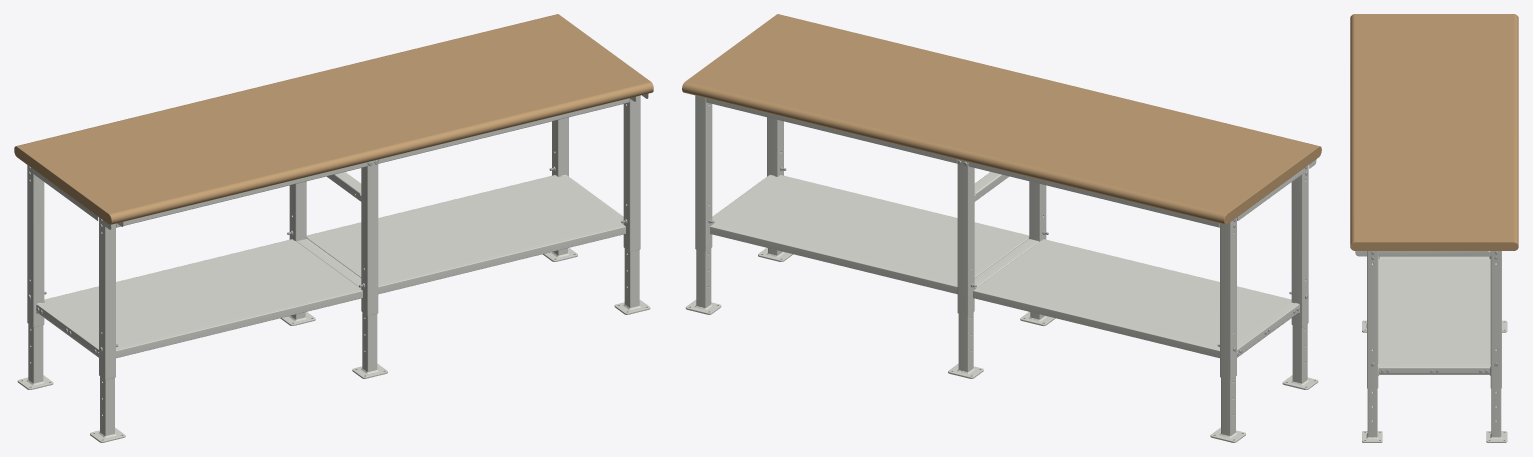
The model's file is table_packing_heavyduty_c02.glb.
3 views of the same model, side by side, from view 1: azimuth 30°, elevation 25°; view 2: azimuth 150°, elevation 25°; view 3: azimuth 270°, elevation 25° (orthographic). The views are drawn at different scales.
Bounding box in the file's own units: 2.47 × 0.9941 × 0.7617.
